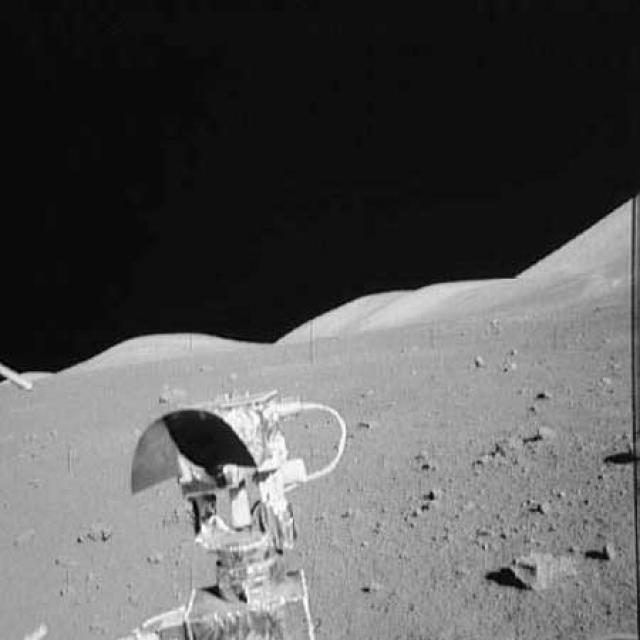artifact: (114, 386, 347, 638), (0, 358, 36, 398)
rock: (494, 543, 578, 589), (602, 426, 639, 462), (532, 419, 555, 444), (599, 536, 617, 564), (468, 351, 490, 372)
